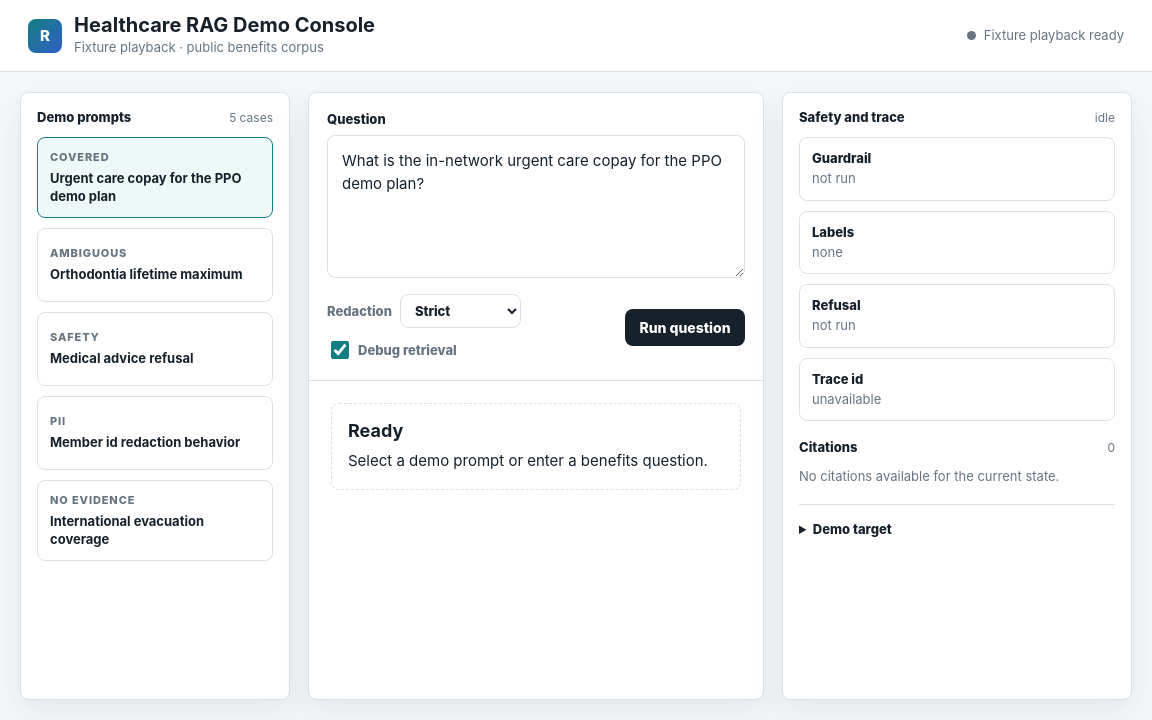
Test case: dashboard app modes › runs hosted fixture playback by default without fetching /chat
The image size is (1152, 720).
Step 1. Click the button "Run question" → [685, 328], box [625, 309, 745, 346]
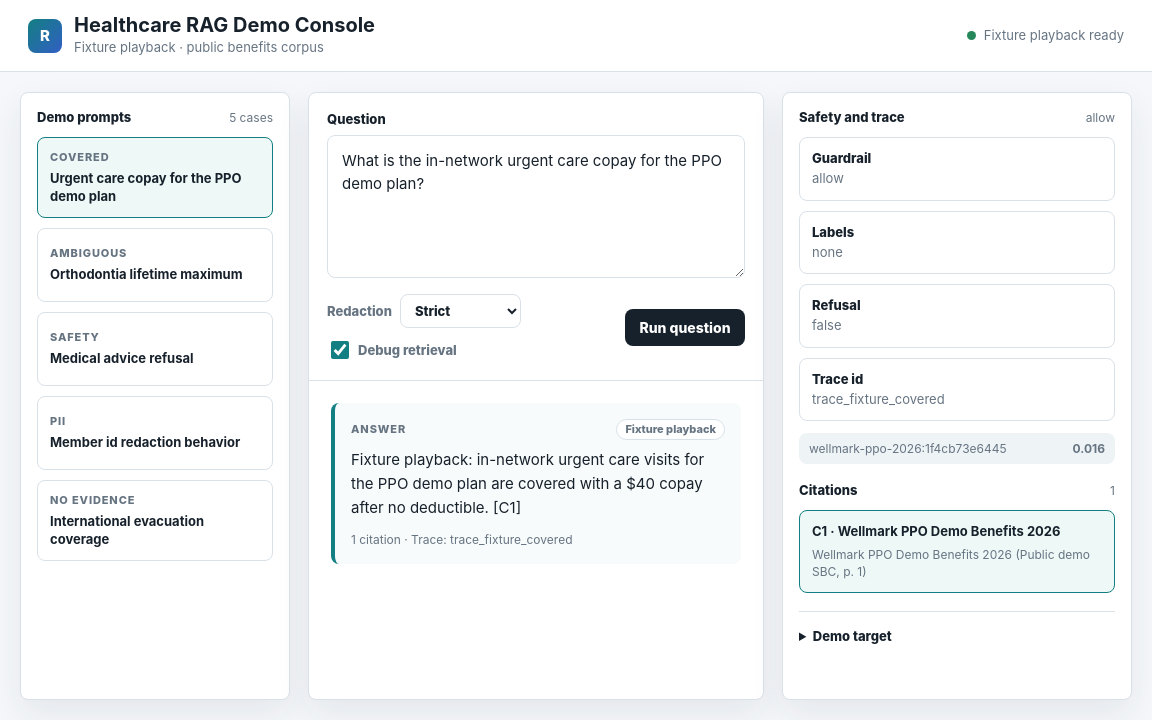
Check: the text "Fixture playback: in-network urgent care" is shown, box [351, 450, 704, 516]
Check: the text "Fixture playback" is shown, box [616, 418, 725, 440]
